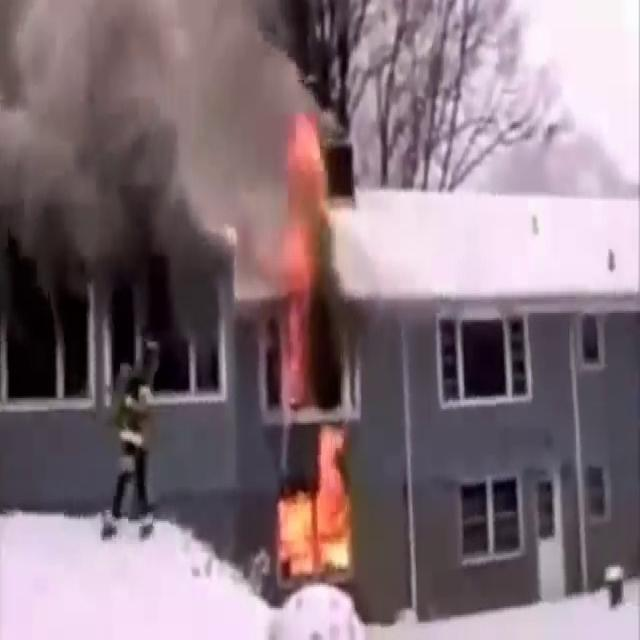Fire: (270, 408, 363, 595)
Smoke: (0, 0, 324, 258)
